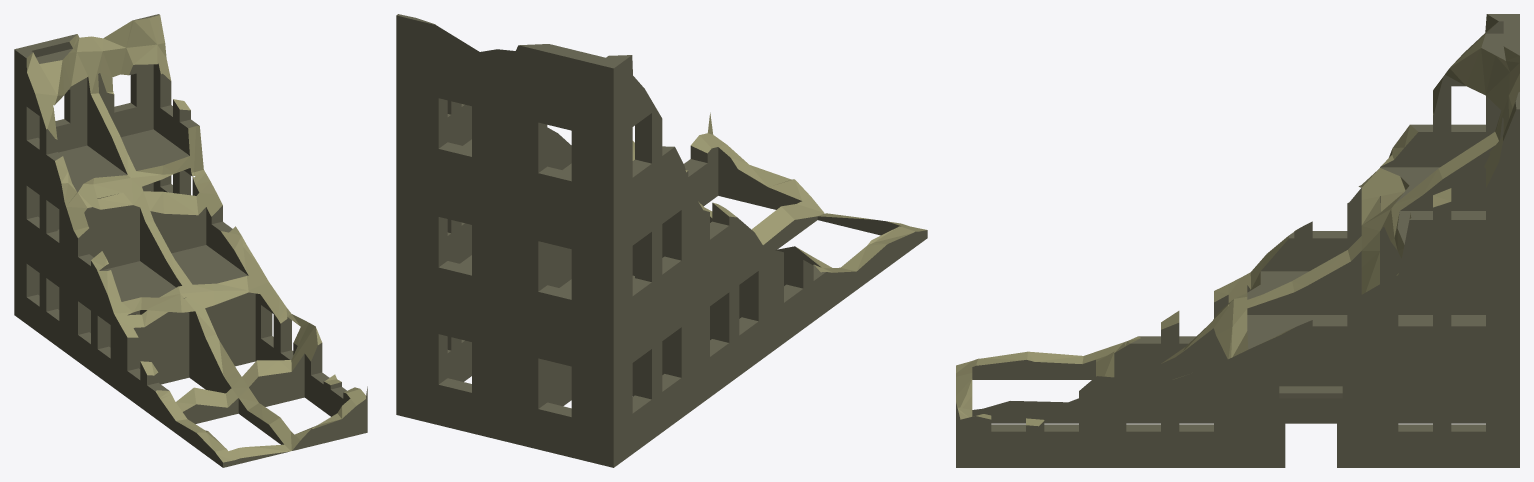
The model's file is Buildings 2.fbx.
3 renders of one model, left to right at view 1: azimuth 30°, elevation 25°; view 2: azimuth 150°, elevation 25°; view 3: azimuth 270°, elevation 25°, orthographic. The views are drawn at different scales.
Parts seen in each view (by area): view 1: Buildings 2; view 2: Buildings 2; view 3: Buildings 2.
Boxes of the visible parts, x1,y1,x2,y2 form: Buildings 2: (14,14,367,467); Buildings 2: (396,14,927,467); Buildings 2: (956,14,1519,467).
Size of the model in its own units: 774 by 1261 by 1797.
